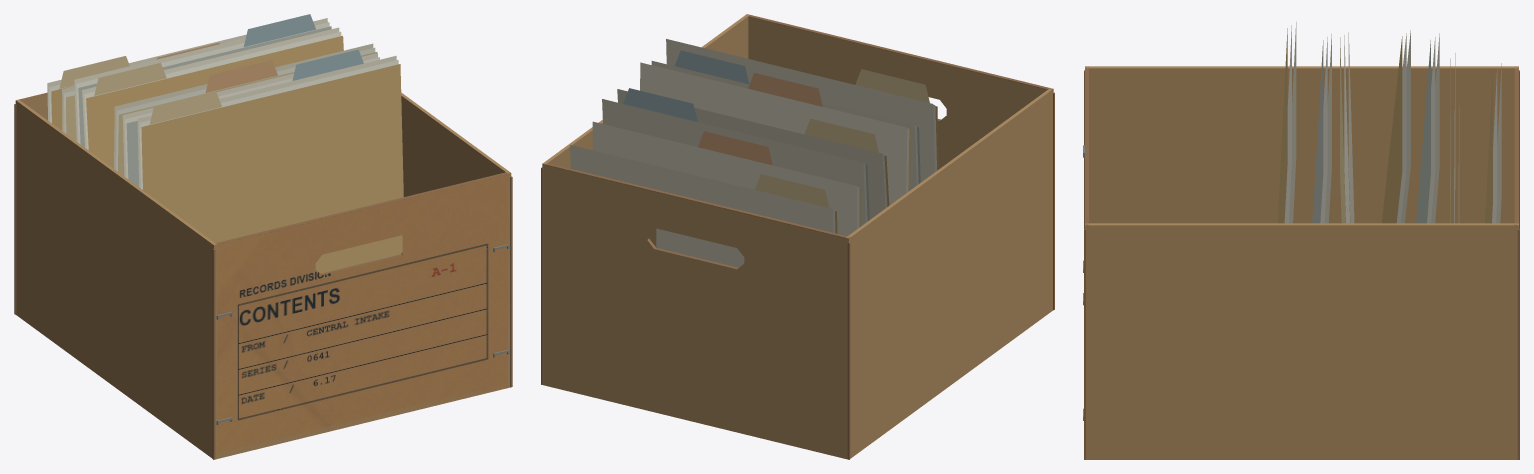
The picture shows the model from 3 angles, left to right: view 1: azimuth 30°, elevation 25°; view 2: azimuth 150°, elevation 25°; view 3: azimuth 270°, elevation 25°; orthographic projection. The views are drawn at different scales.
Parts seen in each view (by area): view 1: TransferCaseA; view 2: TransferCaseA; view 3: TransferCaseA.
Boxes of the visible parts, left/top/right/bottom form: TransferCaseA: left=14, top=14, right=512, bottom=459; TransferCaseA: left=541, top=14, right=1054, bottom=459; TransferCaseA: left=1083, top=22, right=1519, bottom=459.
Size of the model in its own units: 0.35 by 0.3111 by 0.4048.
12 materials, 1 textured.
